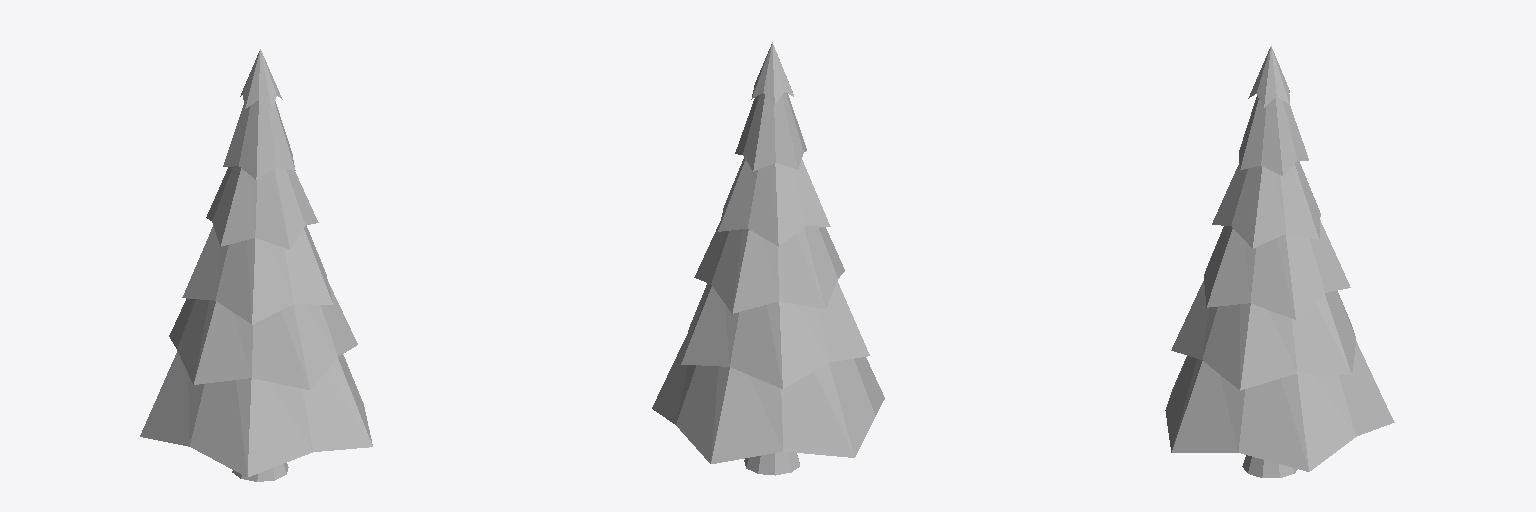
File: tree.obj
3 views of the same model, side by side, from view 1: azimuth 30°, elevation 25°; view 2: azimuth 150°, elevation 25°; view 3: azimuth 270°, elevation 25° (orthographic).
Visible parts, largest first — view 1: Cylinder; view 2: Cylinder; view 3: Cylinder.
Part boxes in pixels (x1,y1,x2,y2): Cylinder: (140,49,372,481); Cylinder: (652,42,884,475); Cylinder: (1165,46,1394,477).
Bounding box in the file's own units: 4.82 × 9.55 × 4.7.